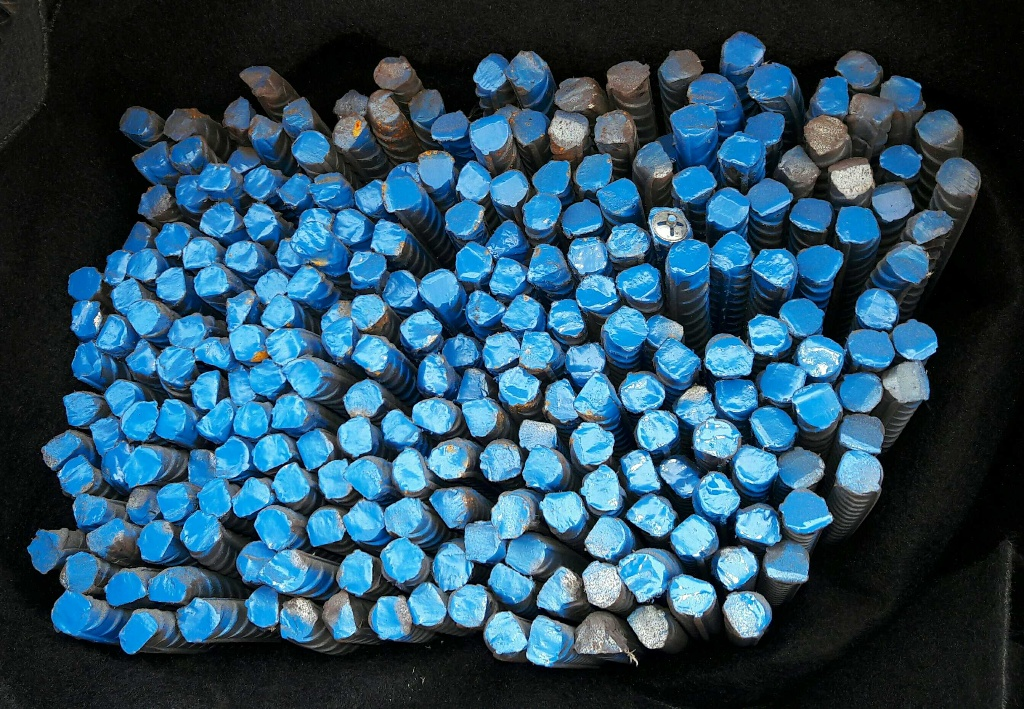dipstick: (667, 514, 715, 563), (780, 488, 833, 532), (746, 405, 797, 449), (572, 372, 615, 424), (627, 492, 674, 539), (667, 573, 714, 620), (620, 555, 667, 602), (722, 591, 770, 637), (259, 552, 311, 594), (796, 333, 844, 377), (616, 370, 665, 413), (365, 596, 411, 641), (706, 333, 753, 377), (380, 539, 424, 585), (886, 361, 933, 404), (485, 614, 528, 661), (840, 413, 888, 455), (840, 451, 888, 493), (430, 542, 472, 590), (322, 592, 361, 643), (711, 544, 757, 587), (653, 339, 700, 381), (795, 240, 842, 282), (712, 376, 759, 418), (277, 600, 320, 645), (579, 467, 620, 514), (695, 420, 743, 460), (572, 613, 620, 653), (602, 306, 645, 350), (548, 108, 591, 152), (529, 245, 571, 290), (748, 312, 790, 357), (383, 495, 425, 540), (538, 570, 579, 616), (525, 618, 566, 664), (833, 204, 880, 244), (796, 384, 843, 424), (462, 520, 502, 567), (506, 533, 549, 576), (337, 553, 380, 596), (896, 316, 938, 360), (586, 514, 627, 559), (492, 493, 533, 538), (619, 263, 661, 306), (712, 231, 754, 274), (663, 455, 705, 498), (479, 439, 521, 482), (804, 116, 848, 157), (761, 363, 805, 404), (490, 563, 534, 604), (847, 327, 892, 367), (700, 472, 739, 518), (635, 412, 681, 451), (751, 176, 793, 218), (738, 502, 780, 544), (344, 460, 386, 502), (918, 110, 961, 151), (839, 372, 882, 413), (461, 400, 504, 441), (269, 463, 310, 506), (792, 196, 836, 236), (672, 100, 716, 140), (630, 604, 669, 649), (583, 562, 622, 607), (525, 447, 564, 492), (343, 499, 382, 544), (834, 51, 881, 88), (777, 449, 824, 486), (709, 186, 749, 229), (738, 442, 778, 485), (622, 449, 662, 492), (779, 298, 823, 337), (516, 413, 560, 452), (649, 204, 694, 242), (555, 74, 600, 112), (570, 426, 615, 464), (391, 448, 429, 493), (857, 286, 898, 327), (752, 246, 794, 286), (675, 387, 718, 426), (449, 584, 488, 627), (178, 600, 217, 643), (594, 110, 638, 148), (542, 490, 582, 531), (343, 378, 384, 418), (814, 76, 853, 118), (430, 488, 469, 530), (49, 594, 91, 633), (596, 177, 639, 215), (722, 31, 765, 69), (408, 584, 445, 628), (542, 378, 578, 423), (243, 585, 278, 631), (939, 157, 979, 197), (721, 127, 761, 167), (427, 441, 467, 481), (372, 219, 412, 259), (296, 431, 335, 472), (194, 402, 235, 441), (574, 152, 612, 194), (543, 300, 586, 337), (828, 160, 872, 196), (418, 273, 463, 308), (416, 353, 453, 395), (749, 64, 792, 100), (53, 457, 96, 493), (879, 143, 923, 178), (874, 180, 913, 219), (402, 311, 441, 350), (235, 544, 275, 582), (781, 147, 822, 184), (453, 241, 491, 280), (563, 198, 602, 236), (608, 222, 647, 260), (413, 397, 451, 436), (381, 174, 420, 212), (562, 342, 602, 379), (892, 241, 929, 281), (353, 333, 389, 374), (25, 531, 61, 572), (322, 318, 357, 360), (671, 166, 714, 200), (570, 235, 608, 273), (124, 447, 162, 485), (511, 108, 549, 146), (524, 194, 561, 233), (743, 107, 782, 144), (212, 439, 251, 476), (41, 429, 78, 468), (349, 251, 388, 288), (473, 53, 512, 90), (670, 239, 710, 275), (606, 60, 651, 92), (106, 570, 146, 606), (180, 513, 220, 549), (443, 200, 483, 236), (912, 210, 953, 245), (662, 47, 703, 82), (97, 315, 132, 356), (153, 400, 187, 442), (850, 92, 893, 125), (884, 73, 922, 110), (233, 480, 271, 517), (116, 614, 154, 651), (510, 51, 547, 89), (499, 368, 535, 407), (347, 461, 383, 500), (380, 410, 420, 445), (579, 276, 620, 310), (254, 508, 288, 549), (283, 360, 320, 397), (60, 555, 97, 592), (159, 346, 196, 383), (766, 541, 804, 577), (306, 510, 341, 549), (69, 345, 104, 384), (470, 116, 509, 151), (637, 137, 677, 171), (645, 311, 683, 346), (384, 269, 419, 307), (67, 302, 102, 340), (227, 325, 262, 363), (102, 448, 135, 488), (333, 208, 369, 244), (417, 152, 453, 188), (469, 290, 506, 325), (482, 331, 517, 368), (493, 220, 527, 258), (253, 436, 291, 470), (121, 400, 155, 438), (295, 224, 333, 258), (457, 161, 491, 199), (133, 145, 172, 178), (535, 160, 570, 196), (156, 485, 192, 520), (249, 361, 285, 396), (491, 170, 527, 205), (125, 340, 159, 377), (308, 172, 343, 207), (272, 395, 306, 431), (351, 294, 384, 331), (62, 391, 100, 423), (237, 403, 269, 441), (522, 330, 553, 369), (319, 461, 349, 501), (196, 336, 231, 370), (67, 267, 103, 300), (117, 106, 153, 139), (88, 521, 125, 553), (227, 365, 259, 402), (245, 206, 277, 243), (374, 57, 412, 88), (149, 574, 188, 604), (292, 133, 331, 163), (506, 294, 539, 329), (338, 418, 374, 450), (186, 451, 218, 487), (282, 173, 314, 209), (126, 488, 157, 525), (689, 74, 727, 104), (335, 88, 373, 118), (281, 99, 319, 129), (198, 481, 232, 514), (127, 302, 161, 335), (190, 371, 225, 403), (245, 164, 280, 196), (193, 265, 229, 296), (136, 186, 172, 217), (224, 242, 261, 272), (155, 269, 188, 302), (104, 380, 138, 412), (352, 180, 386, 212), (167, 315, 202, 346), (318, 300, 353, 331), (202, 204, 237, 235), (431, 112, 467, 142), (407, 91, 443, 121), (492, 258, 524, 291), (445, 332, 477, 365), (69, 494, 101, 527), (88, 419, 121, 451), (137, 526, 168, 560), (130, 250, 161, 284), (334, 118, 365, 152), (153, 224, 188, 254), (181, 239, 218, 267), (265, 329, 297, 361), (274, 239, 307, 270), (262, 297, 296, 327), (368, 90, 402, 120), (225, 292, 254, 327), (223, 96, 252, 131), (108, 280, 139, 312), (175, 174, 206, 206), (174, 137, 207, 167), (203, 163, 237, 192), (238, 65, 274, 92), (167, 107, 197, 139), (255, 271, 288, 299), (105, 250, 130, 286), (457, 369, 488, 398), (247, 112, 278, 141), (288, 266, 315, 299), (229, 142, 261, 169), (123, 222, 151, 251), (492, 96, 518, 124), (392, 162, 422, 185)
